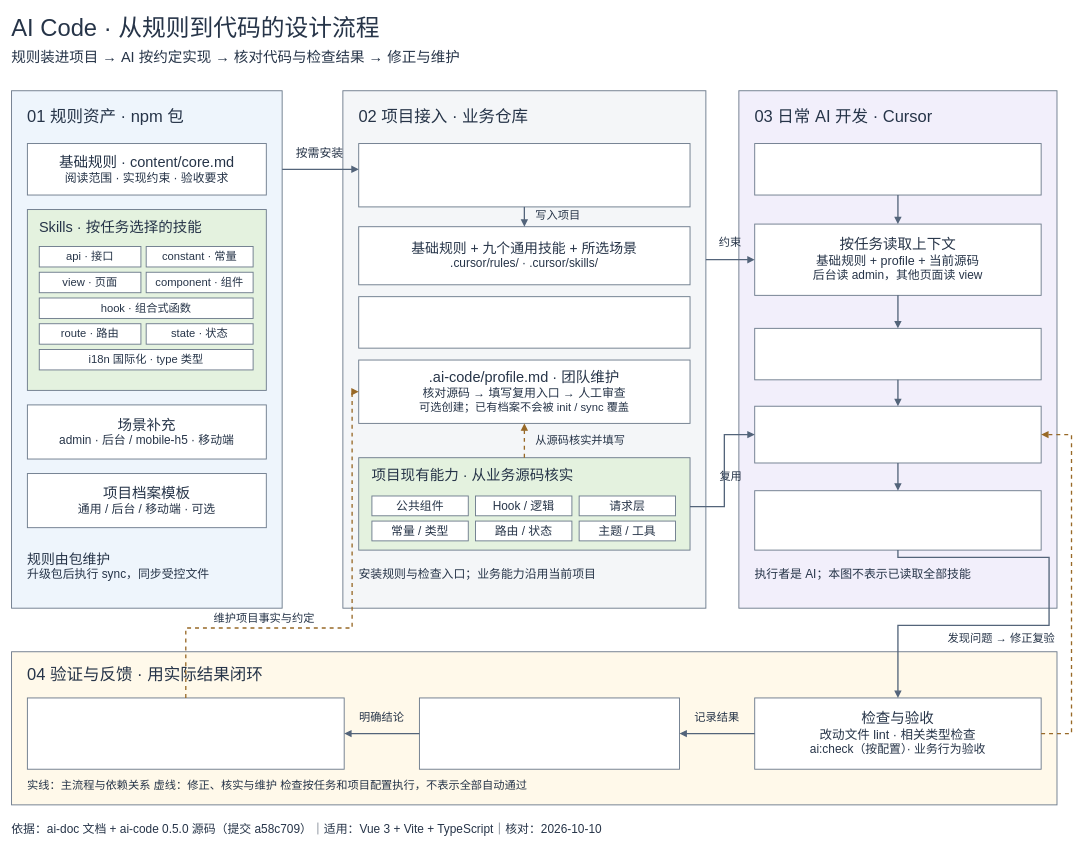
Some shapes in this 1089 by 850 pixel diagram are drawn without their labels. Each missing label, with the box of its shape:
.ai-code/config.json 保存选择、版本、检查脚本与受控清单: (358, 296, 690, 348)
ai-code init · 初始化 已有 Vue 3 + Vite + TypeScript 项目 选择场景 → 按需创建项目档案: (358, 143, 690, 207)
交付与维护 说明完成内容、复用来源、检查结果 入口或约定变化后，更新项目档案: (27, 697, 344, 769)
实现 复用已有能力，按规则写代码: (754, 405, 1041, 463)
生成或修改业务代码 页面 · 配置 · API · 常量 · 类型: (754, 490, 1041, 550)
规划 确认拟改文件、复用入口与待确认项: (754, 328, 1041, 380)
规则与代码对照 Skill 原文 → 源码位置 实际结果 → 尚未验证的事项: (419, 697, 680, 769)
输入需求与验收标准 截图 · 交互 · 已确认的接口事实: (754, 143, 1041, 195)
